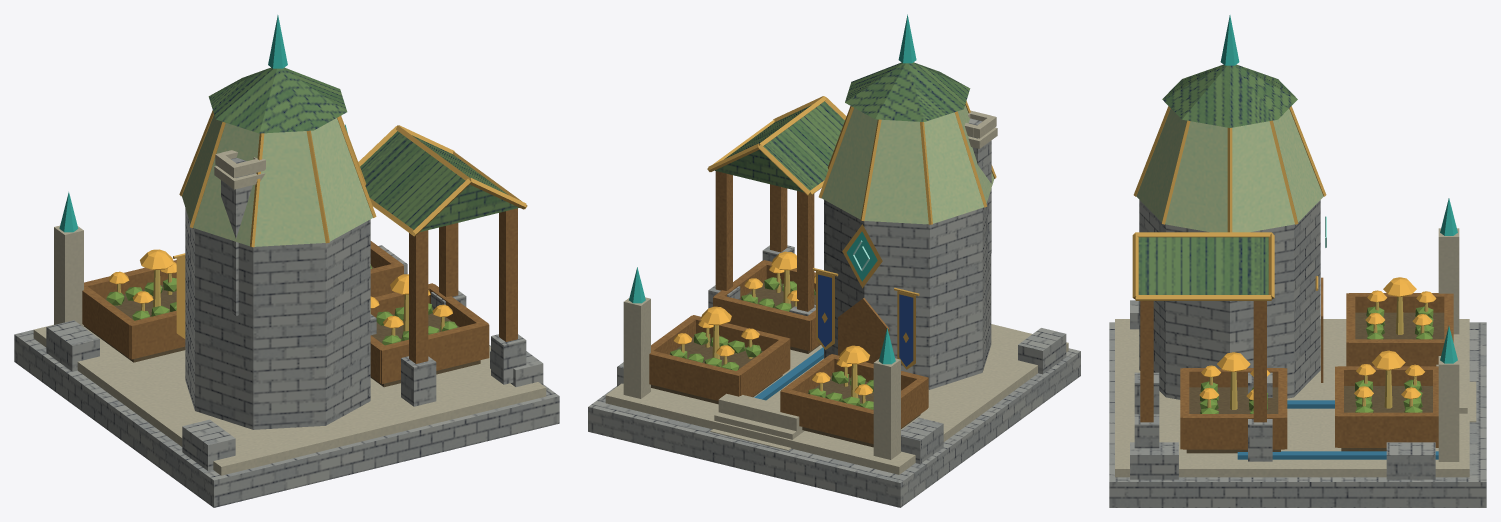
File: Farm_3.fbx
The picture shows the model from 3 angles, left to right: view 1: azimuth 30°, elevation 25°; view 2: azimuth 150°, elevation 25°; view 3: azimuth 270°, elevation 25°; orthographic projection. The views are drawn at different scales.
Visible parts, largest first — view 1: BuildingBody; view 2: BuildingBody; view 3: BuildingBody.
Part boxes in pixels (bbox=[...]): BuildingBody: bbox=[14, 15, 559, 507]; BuildingBody: bbox=[588, 14, 1080, 507]; BuildingBody: bbox=[1109, 15, 1486, 507].
Bounding box in the file's own units: 1 × 1.15 × 1.
1 material, 1 textured.
